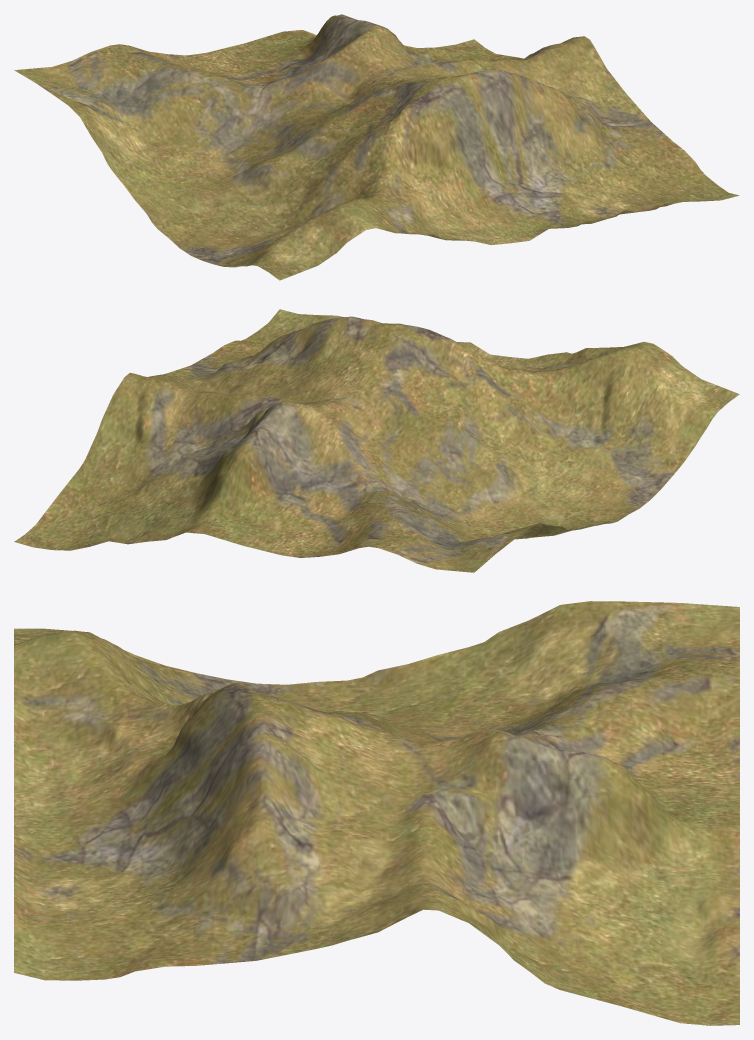
File: terrain.obj
3 views of the same model, one above another, from view 1: azimuth 30°, elevation 25°; view 2: azimuth 150°, elevation 25°; view 3: azimuth 270°, elevation 25° (orthographic). The views are drawn at different scales.
Parts seen in each view (by area): view 1: terrain_o; view 2: terrain_o; view 3: terrain_o.
Part boxes in pixels (x1,y1,x2,y2): terrain_o: (14,14,739,280); terrain_o: (14,309,739,572); terrain_o: (14,601,739,1025).
Size of the model in its own units: 383 by 110 by 383.
Materials: 1 (1 with a texture image).
